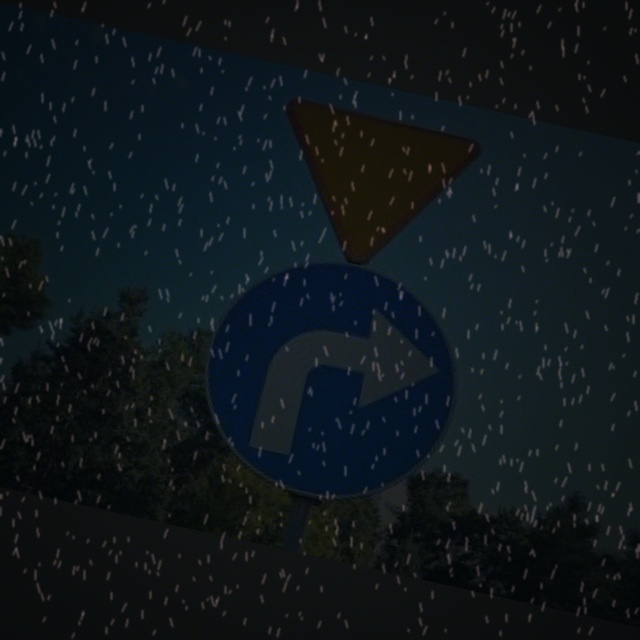Compulsory_Turn_Right_Ahead: (185, 241, 479, 517)
